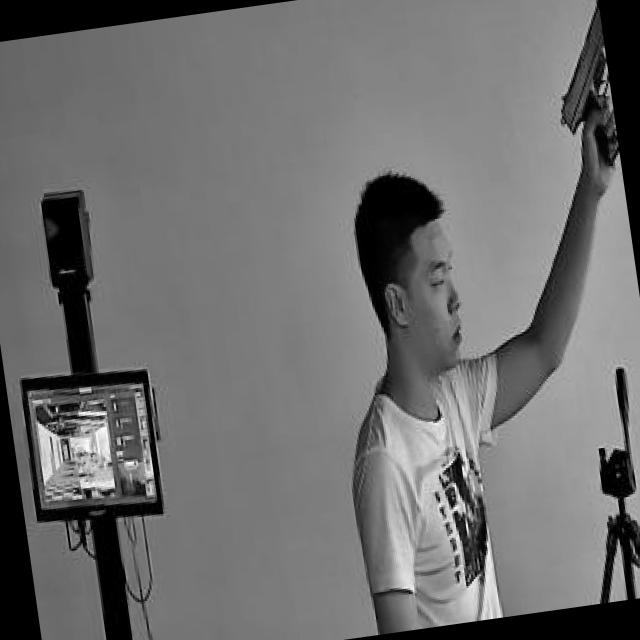Guns: (536, 0, 621, 173)
